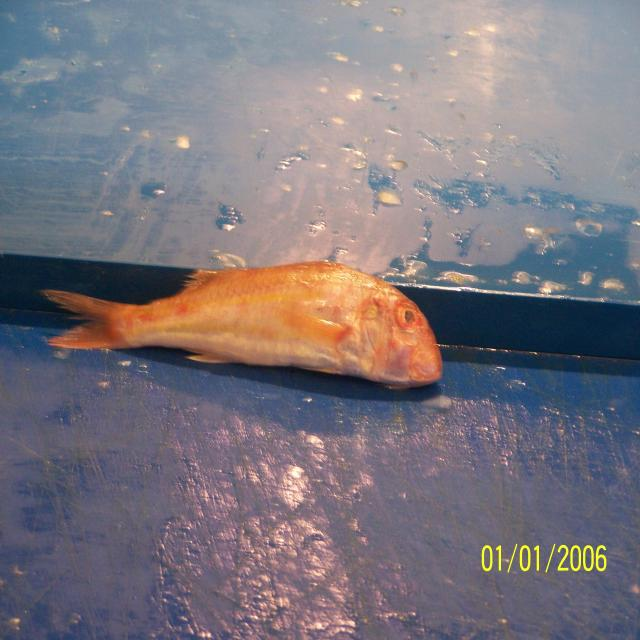Striped-Red-Mullet-tekir-: (42, 262, 444, 393)
